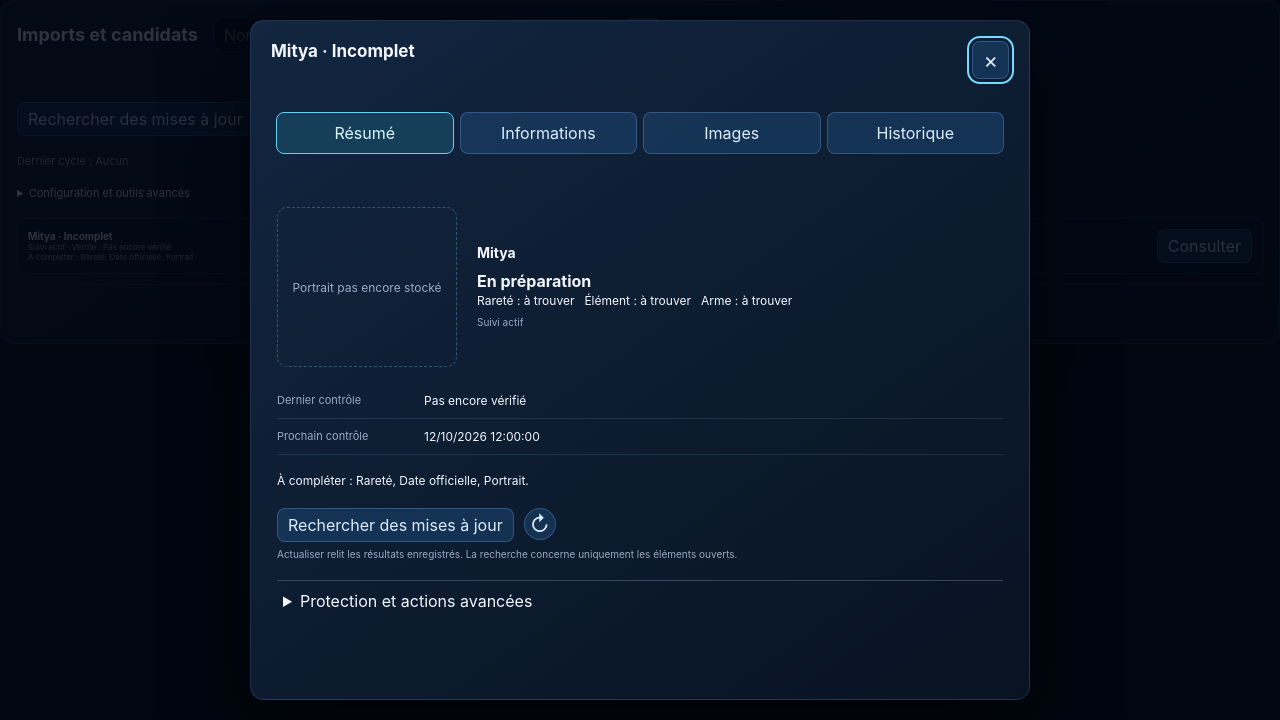
Test: Character import ADMIN surface › consumes the initial intent on close and accepts a subsequent distinct candidate intent
The image size is (1280, 720).
Click the button "×". click: click(991, 60)
box: [972, 41, 1009, 79]
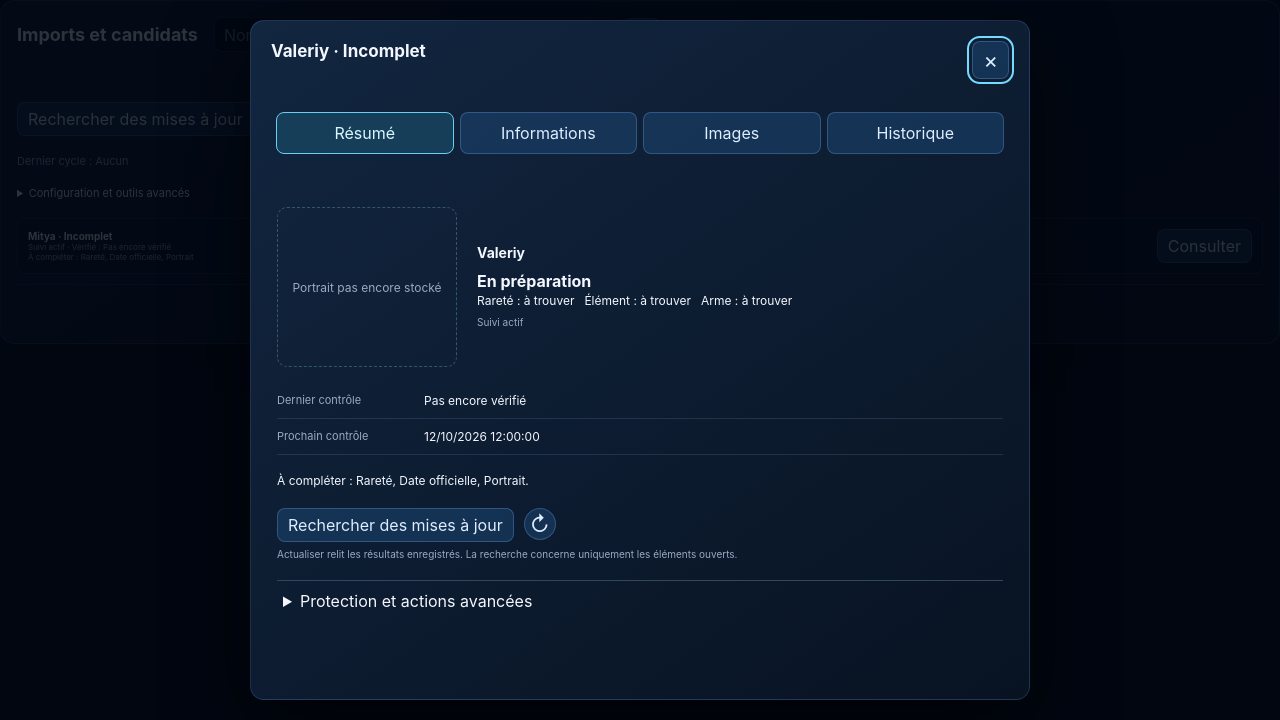
Expected: the dialog shows "Valeriy", [477, 244, 525, 261]
